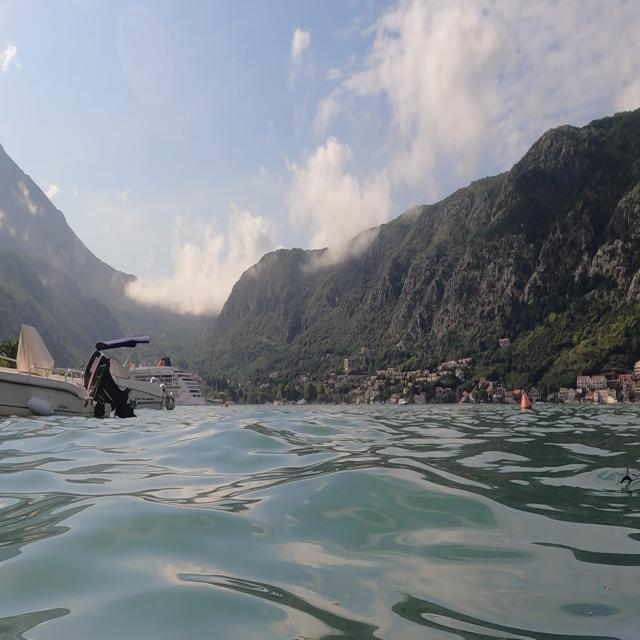boat: (1, 317, 115, 439), (94, 324, 179, 426), (128, 357, 215, 420)
buoy: (517, 388, 537, 416)
